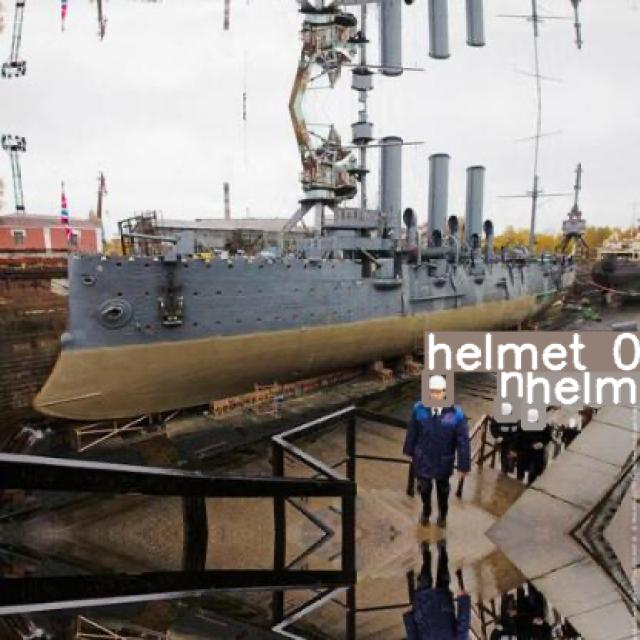helmet: (425, 370, 449, 403), (523, 404, 542, 426), (497, 398, 515, 418)
